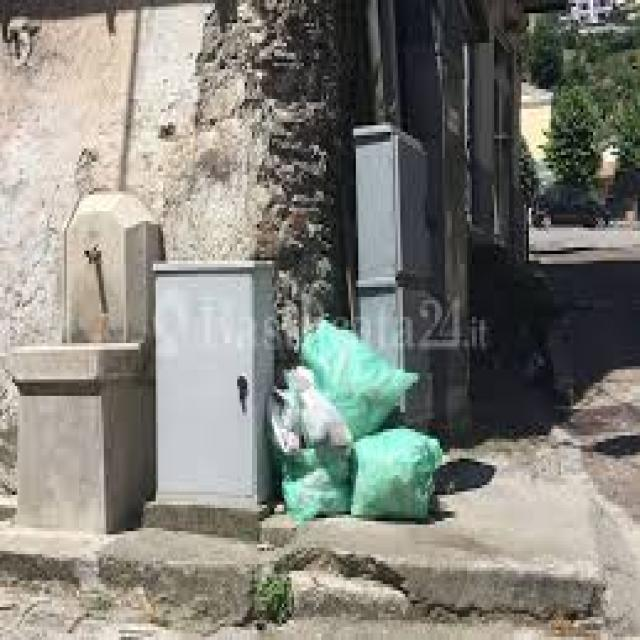sampah-detection: (277, 317, 446, 528)
